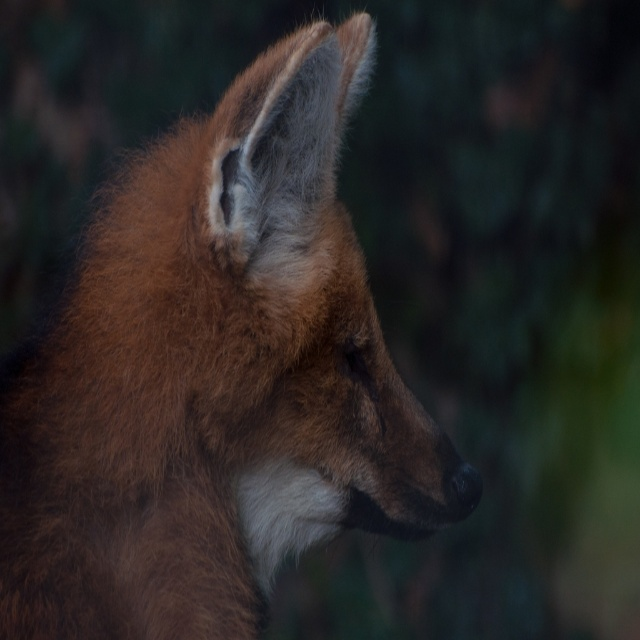Fox: (0, 0, 486, 639)
